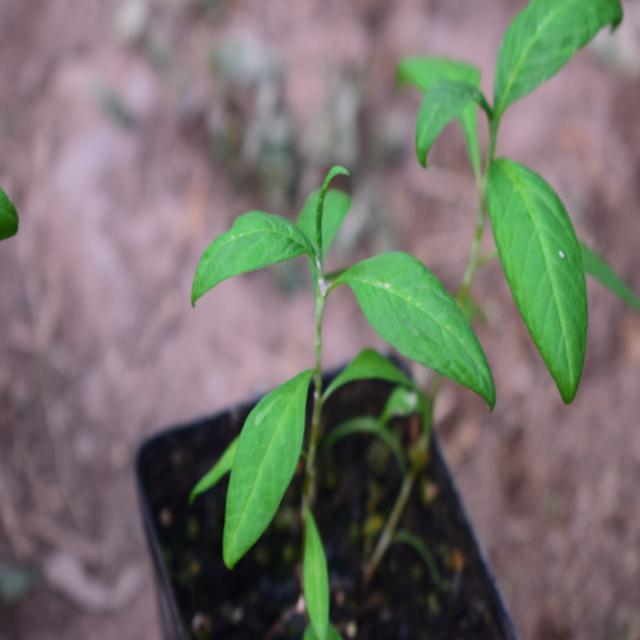white_smart_weed: (202, 140, 472, 576)
